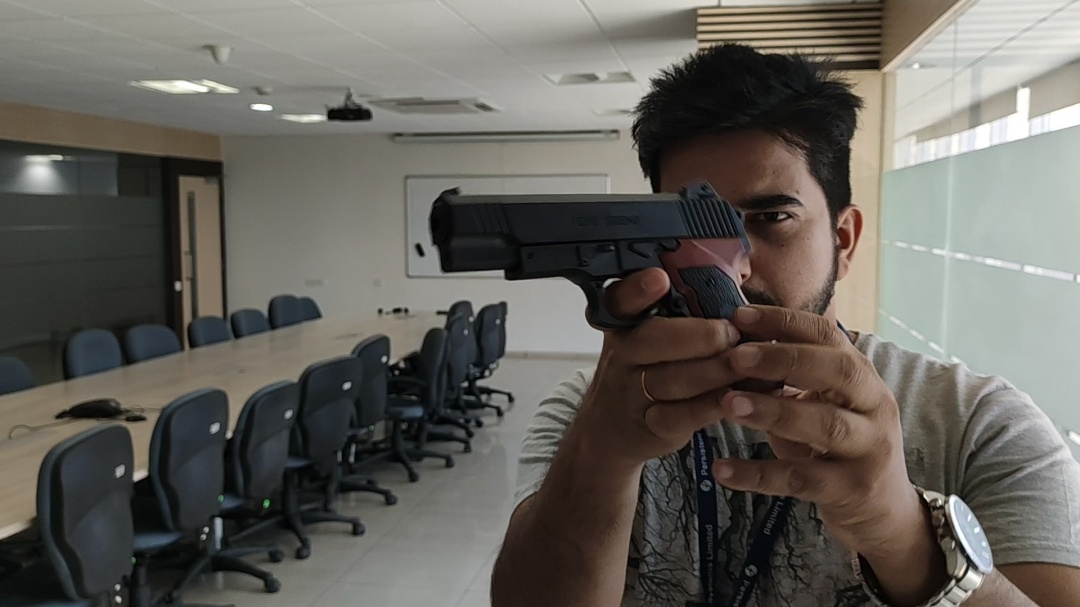gun: (427, 181, 761, 339)
